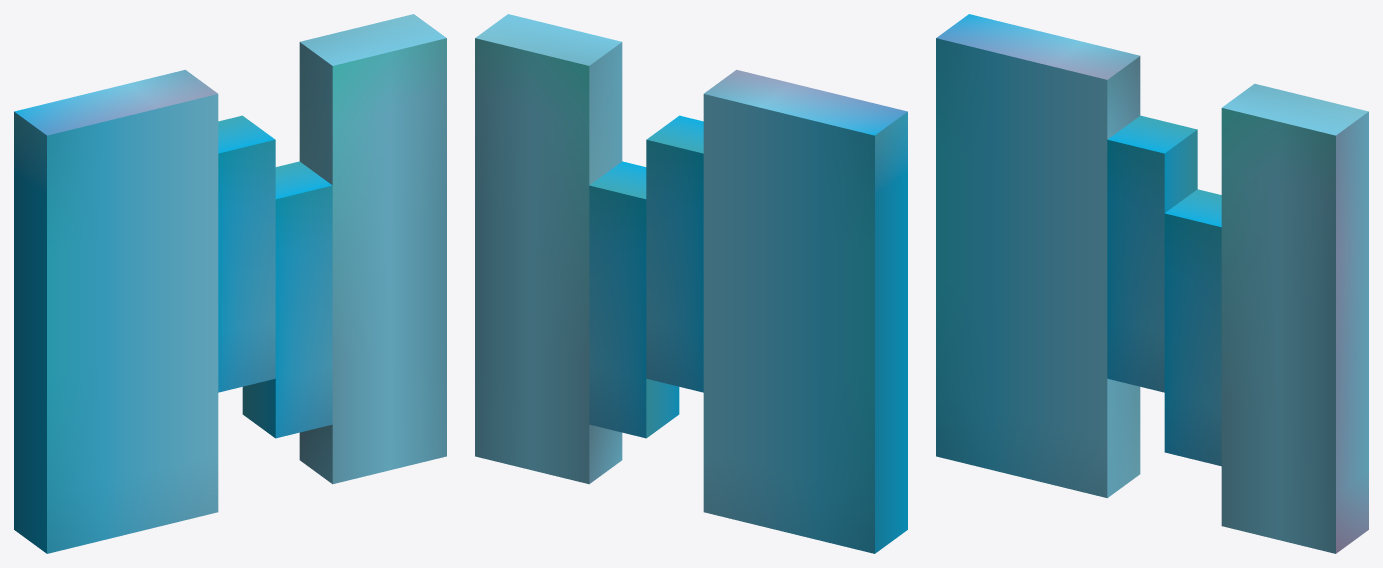
The model's file is BillboardModule_Letters_N_Blue_00.fbx.
3 renders of one model, left to right at view 1: azimuth 30°, elevation 25°; view 2: azimuth 150°, elevation 25°; view 3: azimuth 330°, elevation 25°, orthographic.
Parts seen in each view (by area): view 1: BillboardModule_Letters_N_Blue_00; view 2: BillboardModule_Letters_N_Blue_00; view 3: BillboardModule_Letters_N_Blue_00.
Part boxes in pixels (x1,y1,x2,y2): BillboardModule_Letters_N_Blue_00: [14, 14, 446, 553]; BillboardModule_Letters_N_Blue_00: [475, 14, 907, 553]; BillboardModule_Letters_N_Blue_00: [936, 14, 1368, 553].
Size of the model in its own units: 35 by 35 by 5.
